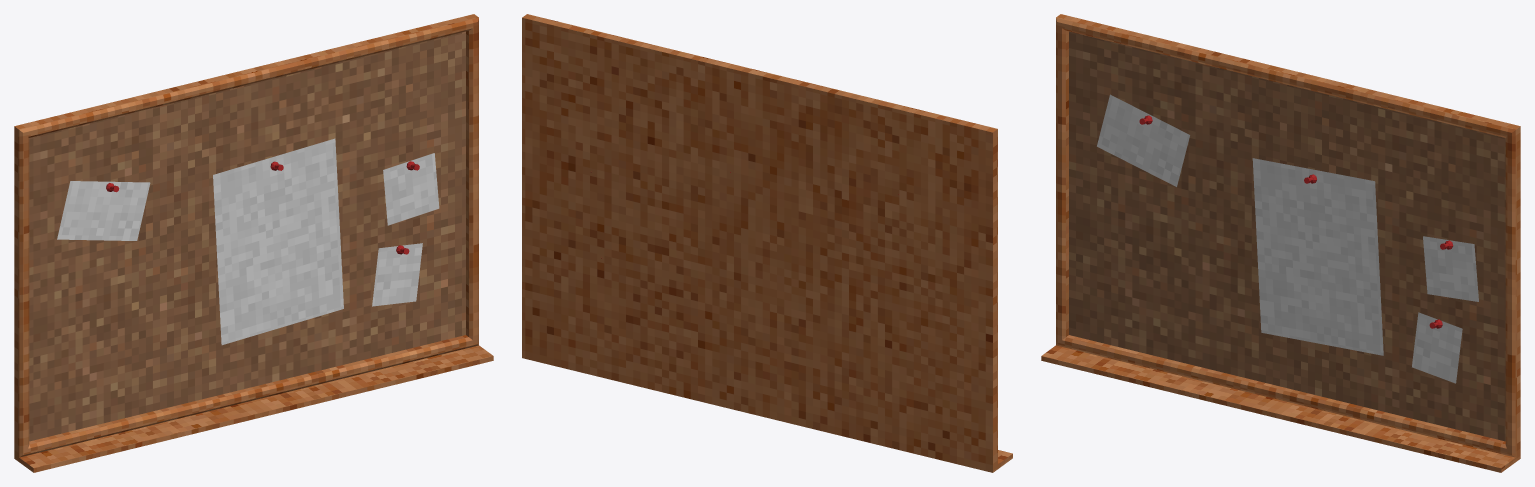
Rendered from corkboard.fbx.
3 views of the same model, side by side, from view 1: azimuth 30°, elevation 25°; view 2: azimuth 150°, elevation 25°; view 3: azimuth 330°, elevation 25° (orthographic). The views are drawn at different scales.
Parts seen in each view (by area): view 1: 1344 Message Board 02; view 2: 1344 Message Board 02; view 3: 1344 Message Board 02.
Boxes of the visible parts, <box> form: 1344 Message Board 02: <box>14,14,493,472</box>; 1344 Message Board 02: <box>522,14,1012,472</box>; 1344 Message Board 02: <box>1041,14,1520,472</box>.
Size of the model in its own units: 184 by 127 by 13.74.
